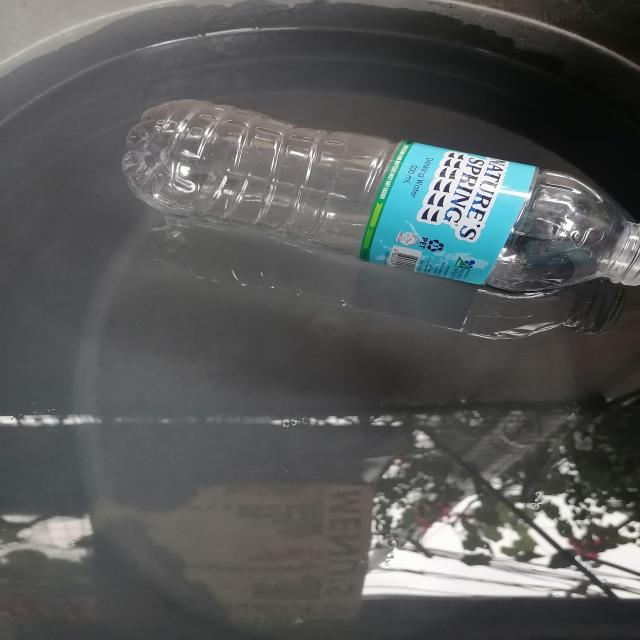Plastic Bottle: (104, 75, 640, 313)
